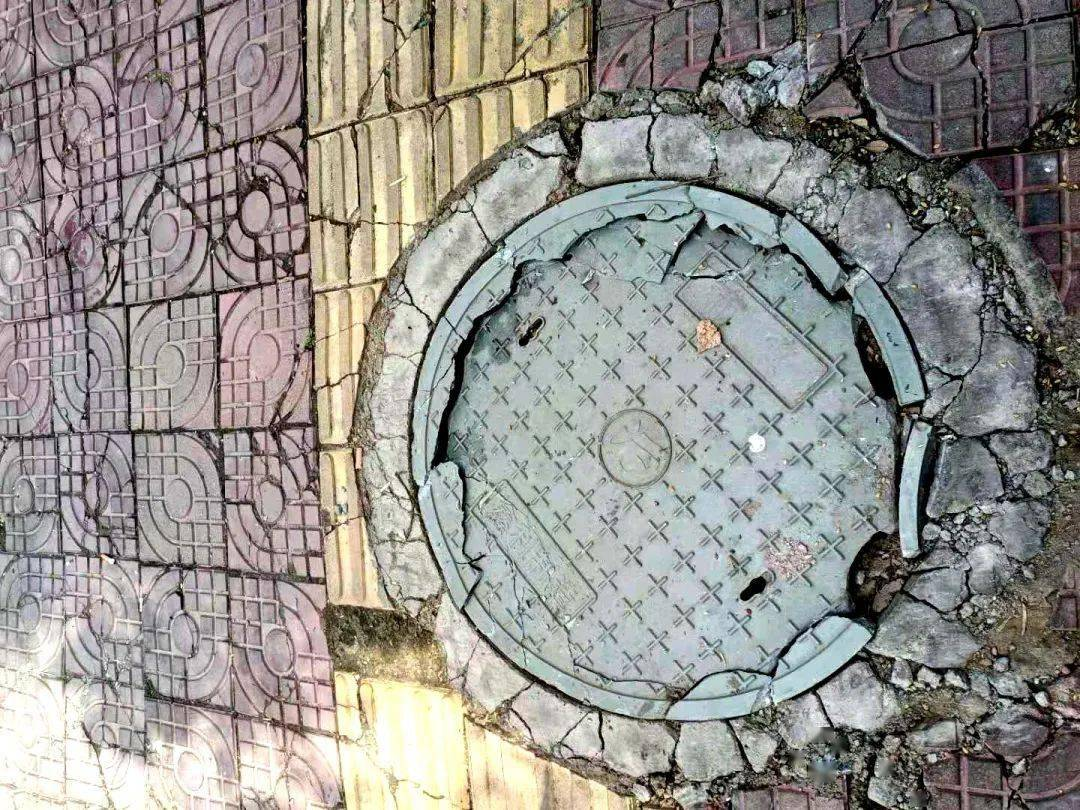circle: (338, 94, 1037, 773)
